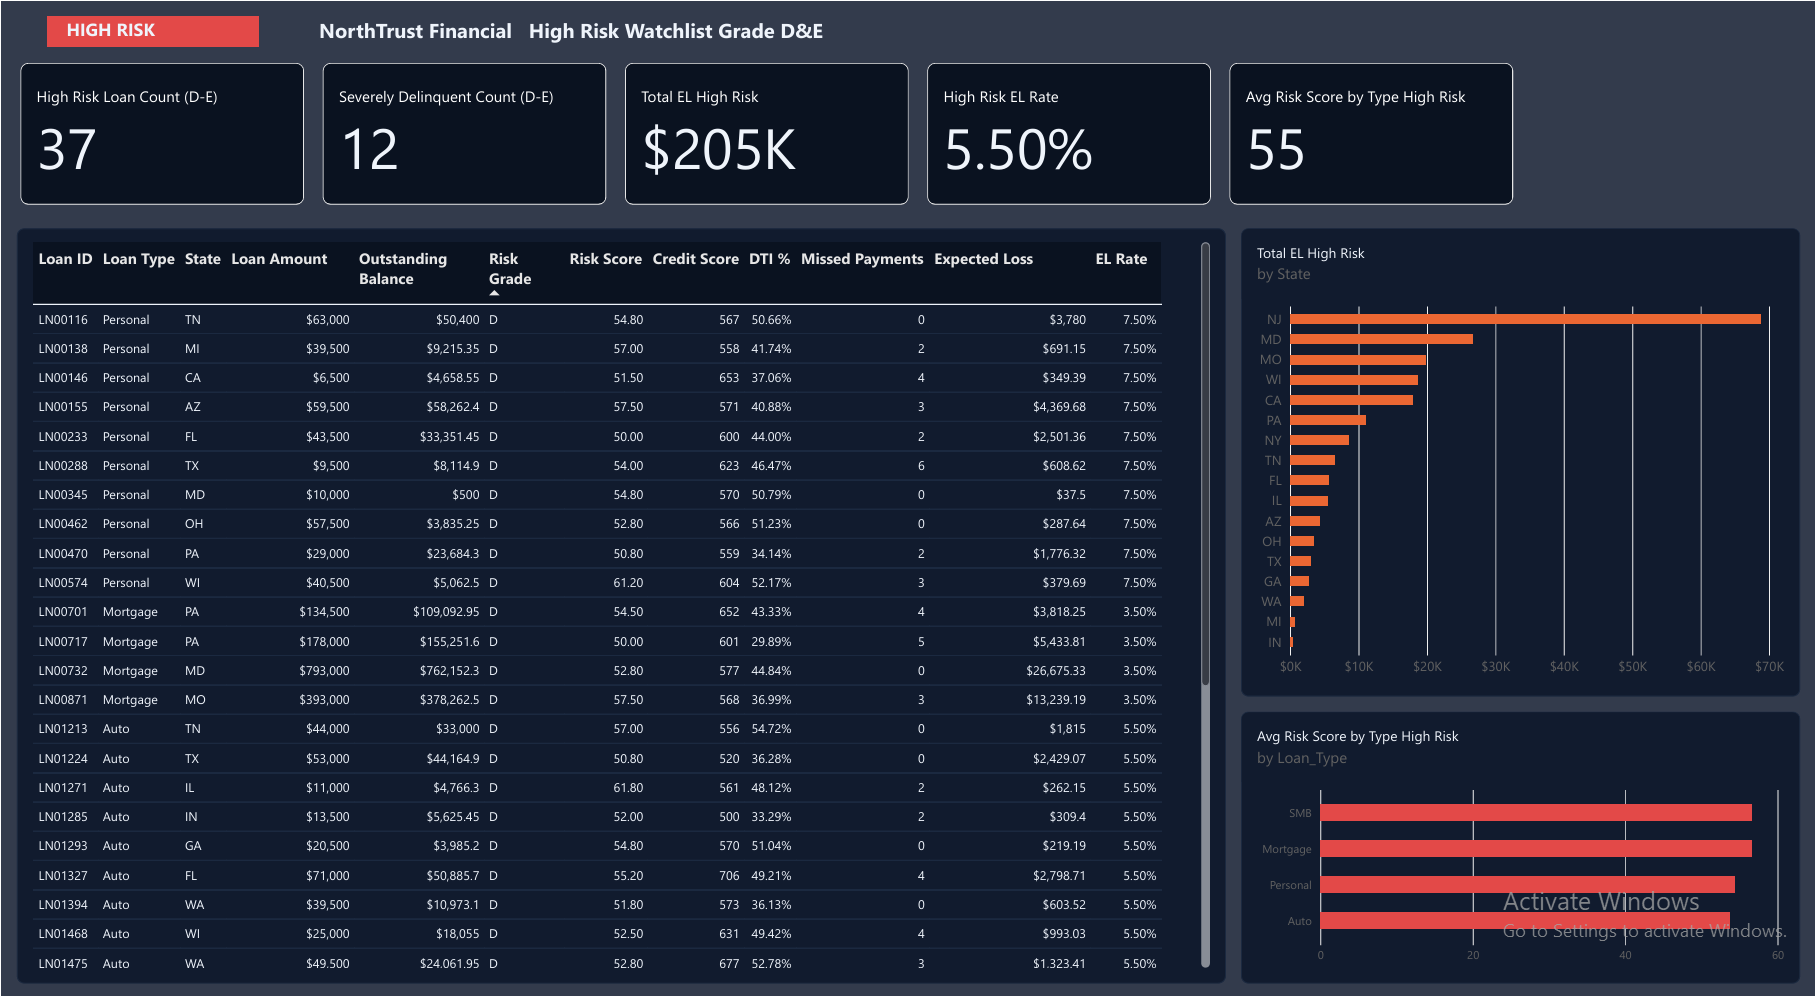

Layout of this report page (visuals, bound fields, positions):
{"tool":"powerbi","page":{"name":"High Risk Watchlist","canvas":[1920,1080],"ordinal":1},"visuals":[{"type":"cardVisual","fields":{"Data":["9_loan_portfolio_scored.High Risk Loan Count (D-E)"]},"box":[20,65,300,150],"z":0},{"type":"cardVisual","fields":{"Data":["9_loan_portfolio_scored.Severely Delinquent Count (D-E)"]},"box":[340,65,300,150],"z":1000},{"type":"cardVisual","fields":{"Data":["9_loan_portfolio_scored.Total EL High Risk"]},"box":[660,65,300,150],"z":2000},{"type":"tableEx","fields":{"Values":["9_loan_portfolio_scored.Loan_ID","9_loan_portfolio_scored.Loan_Type","9_loan_portfolio_scored.State","9_loan_portfolio_scored.Loan_Amount","9_loan_portfolio_scored.Outstanding_Balance","9_loan_portfolio_scored.Risk_Grade","9_loan_portfolio_scored.Risk_Score","9_loan_portfolio_scored.Credit_Score","9_loan_portfolio_scored.DTI_Pct","9_loan_portfolio_scored.Missed_Payments","9_loan_portfolio_scored.Expected_Loss","9_loan_portfolio_scored.Expected_Loss_Rate"]},"box":[16,240,1280,800],"z":3000},{"type":"cardVisual","fields":{"Data":["9_loan_portfolio_scored.High Risk EL Rate"]},"box":[980,65,300,150],"z":3001},{"type":"cardVisual","fields":{"Data":["9_loan_portfolio_scored.Avg Risk Score by Type High Risk"]},"box":[1300,65,300,150],"z":3002},{"type":"textbox","box":[336,16,576,32],"z":3003},{"type":"textbox","box":[48,16,224,32],"z":3004},{"type":"clusteredBarChart","fields":{"Category":["9_loan_portfolio_scored.State"],"Y":["9_loan_portfolio_scored.Total EL High Risk"]},"box":[1312,240,592,496],"z":3005},{"type":"clusteredBarChart","fields":{"Category":["9_loan_portfolio_scored.Loan_Type"],"Y":["9_loan_portfolio_scored.Avg Risk Score by Type High Risk"]},"box":[1312,752,592,288],"z":3006}]}

Visuals, with their boxes in screenshot pixels (x1, y1, x2, y2), scaled from the page's 1920x1080 canvas onto the 1819x996 screenshot:
cardVisual - 9_loan_portfolio_scored.High Risk Loan Count (D-E): x1=19, y1=60, x2=303, y2=198
cardVisual - 9_loan_portfolio_scored.Severely Delinquent Count (D-E): x1=322, y1=60, x2=606, y2=198
cardVisual - 9_loan_portfolio_scored.Total EL High Risk: x1=625, y1=60, x2=910, y2=198
tableEx - 9_loan_portfolio_scored.Loan_ID x 9_loan_portfolio_scored.Loan_Type: x1=15, y1=221, x2=1228, y2=959
cardVisual - 9_loan_portfolio_scored.High Risk EL Rate: x1=928, y1=60, x2=1213, y2=198
cardVisual - 9_loan_portfolio_scored.Avg Risk Score by Type High Risk: x1=1232, y1=60, x2=1516, y2=198
textbox: x1=318, y1=15, x2=864, y2=44
textbox: x1=45, y1=15, x2=258, y2=44
clusteredBarChart - 9_loan_portfolio_scored.State x 9_loan_portfolio_scored.Total EL High Risk: x1=1243, y1=221, x2=1804, y2=679
clusteredBarChart - 9_loan_portfolio_scored.Loan_Type x 9_loan_portfolio_scored.Avg Risk Score by Type High Risk: x1=1243, y1=694, x2=1804, y2=959
